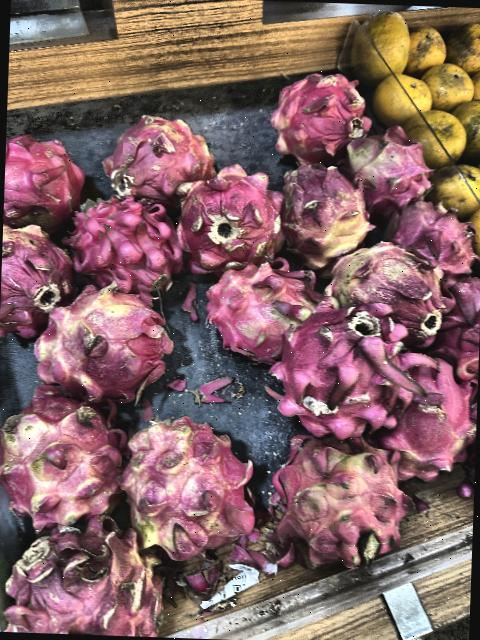buah-naga-belum-matang: (0, 519, 197, 638), (261, 422, 423, 562), (122, 408, 262, 562), (38, 288, 182, 400), (0, 384, 117, 514), (331, 227, 458, 336), (195, 254, 318, 353), (178, 160, 280, 262), (106, 105, 212, 198), (276, 154, 362, 252), (0, 218, 79, 318), (275, 69, 364, 150), (346, 126, 429, 202)
buah-naga-matang: (260, 293, 399, 429), (371, 342, 479, 487), (65, 198, 184, 306), (4, 128, 92, 224), (384, 198, 476, 268)
